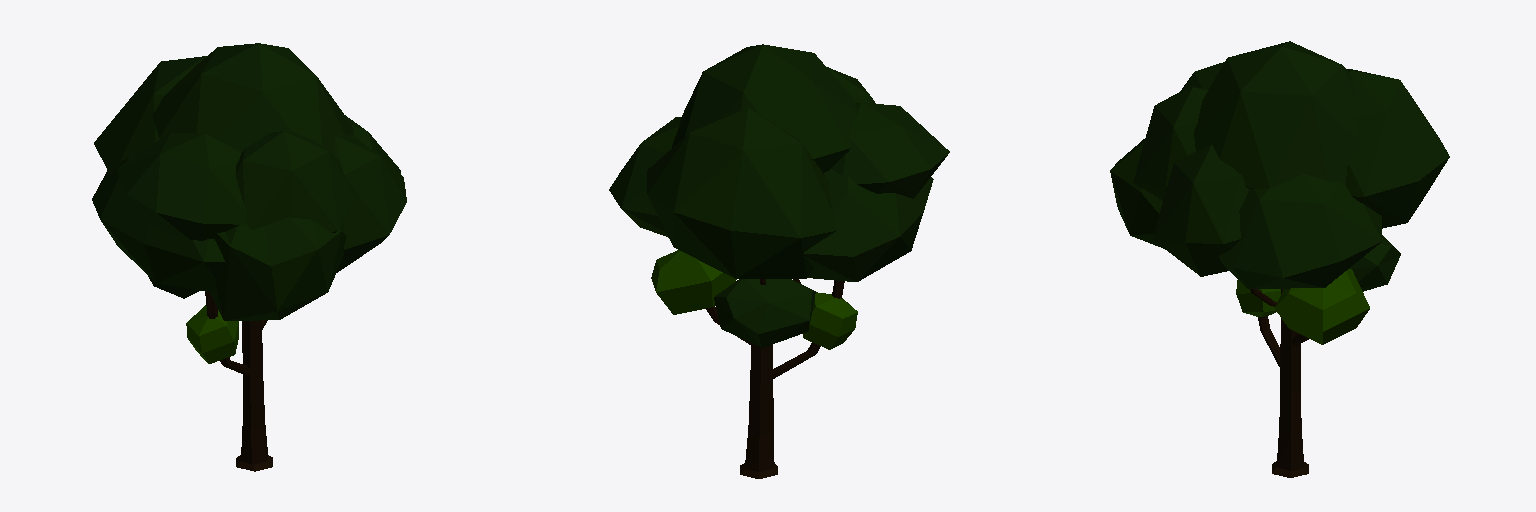
Rendered from leaf_tree.obj.
3 views of the same model, side by side, from view 1: azimuth 30°, elevation 25°; view 2: azimuth 150°, elevation 25°; view 3: azimuth 270°, elevation 25° (orthographic).
Parts seen in each view (by area): view 1: pSphere13, pSphere11, pSphere14, pSphere15, pSphere8, pSphere9, pSphere16, pCylinder1, pSphere4, pSphere12; view 2: pSphere16, pSphere13, pSphere8, pSphere14, pSphere2, pSphere1, pCylinder1, pSphere12, pSphere4, pCylinder3, pSphere15; view 3: pSphere13, pSphere12, pSphere16, pSphere9, pSphere15, pSphere1, pCylinder1, pSphere11, pSphere2, pSphere4, pSphere14.
Boxes of the visible parts, <box> form: pSphere13: <box>152,43,353,155</box>; pSphere11: <box>210,217,346,320</box>; pSphere14: <box>117,133,246,240</box>; pSphere15: <box>236,131,355,232</box>; pSphere8: <box>92,156,225,292</box>; pSphere9: <box>334,134,406,272</box>; pSphere16: <box>94,56,206,173</box>; pCylinder1: <box>236,320,272,471</box>; pSphere4: <box>186,305,238,363</box>; pSphere12: <box>345,115,400,173</box>; pSphere16: <box>647,108,836,278</box>; pSphere13: <box>672,44,856,173</box>; pSphere8: <box>801,169,933,281</box>; pSphere14: <box>831,103,949,198</box>; pSphere2: <box>714,279,815,347</box>; pSphere1: <box>651,250,736,314</box>; pCylinder1: <box>740,343,777,478</box>; pSphere12: <box>609,117,680,237</box>; pSphere4: <box>803,292,857,349</box>; pCylinder3: <box>771,280,844,379</box>; pSphere15: <box>827,67,875,103</box>; pSphere13: <box>1194,41,1359,188</box>; pSphere12: <box>1219,174,1382,288</box>; pSphere16: <box>1345,69,1449,228</box>; pSphere9: <box>1153,144,1248,276</box>; pSphere15: <box>1133,86,1207,200</box>; pSphere1: <box>1275,269,1369,344</box>; pCylinder1: <box>1272,289,1308,477</box>; pSphere11: <box>1110,139,1163,248</box>; pSphere2: <box>1349,235,1400,291</box>; pSphere4: <box>1236,280,1280,316</box>; pSphere14: <box>1181,62,1223,90</box>.
Size of the model in its own units: 18.06 by 24.95 by 18.2.